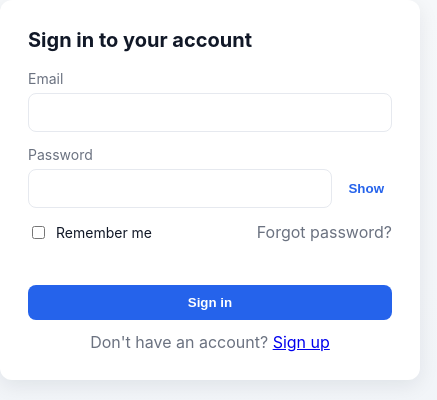
Test: Login component › shows validation errors for empty fields
The image size is (437, 400).
Click the button "Sign in" at point(210, 303), box 28,285 -> 392,320
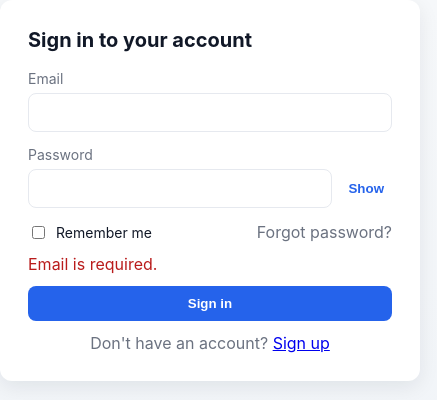
Expected: the text "Email is required." is shown, 28,254 -> 157,274
